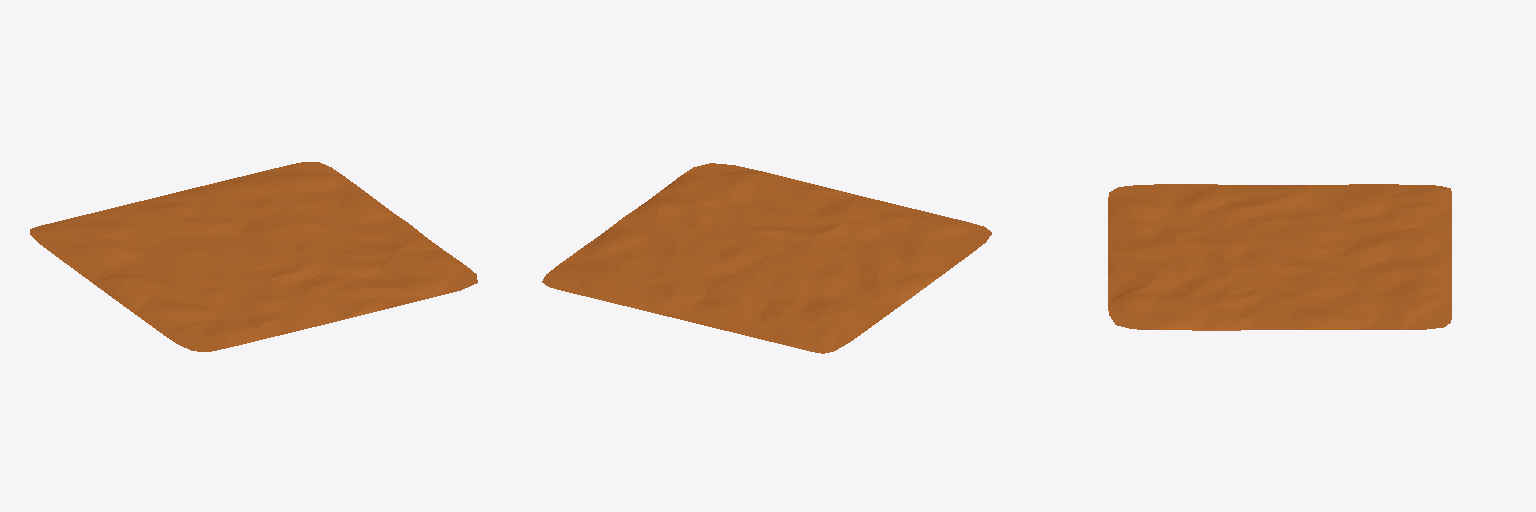
Rendered from Ground1.obj.
3 views of the same model, side by side, from view 1: azimuth 30°, elevation 25°; view 2: azimuth 150°, elevation 25°; view 3: azimuth 270°, elevation 25° (orthographic).
Visible parts, largest first — view 1: Plane_Plane.001; view 2: Plane_Plane.001; view 3: Plane_Plane.001.
Boxes of the visible parts, x1,y1,x2,y2 form: Plane_Plane.001: [30, 162, 477, 351]; Plane_Plane.001: [542, 163, 991, 353]; Plane_Plane.001: [1108, 184, 1451, 330].
Bounding box in the file's own units: 50 × 0.6417 × 50.01.